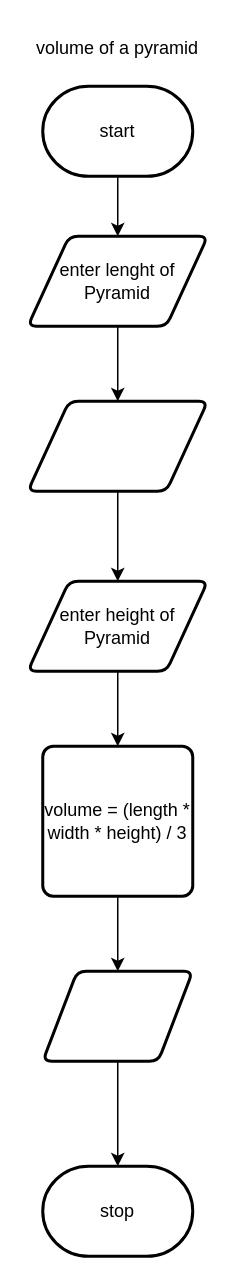
Image size: 234x1283. Some labels were removed from this diagram. The centre of each missing label's shape, as x and y in pixels:
"enter width of Pyramid" goes at (117,445).
"show volume" goes at (117,1015).
